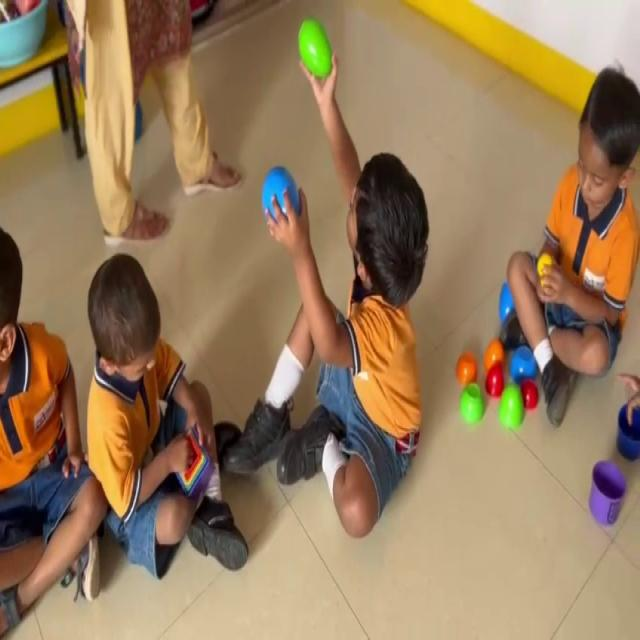child: (213, 52, 431, 553), (455, 58, 636, 482), (68, 211, 204, 589)
